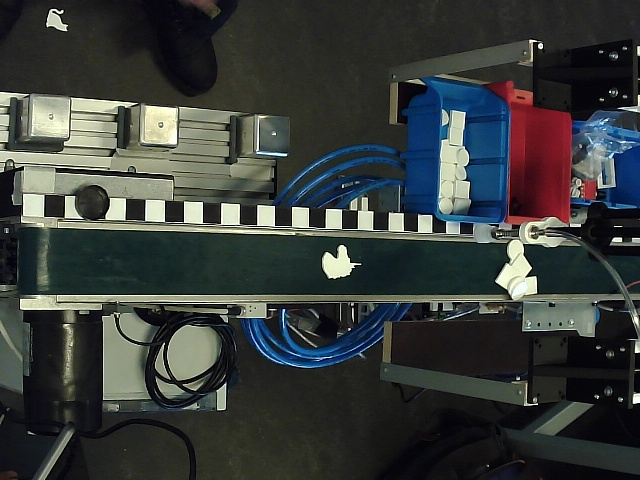unicorn: (321, 244, 363, 280)
